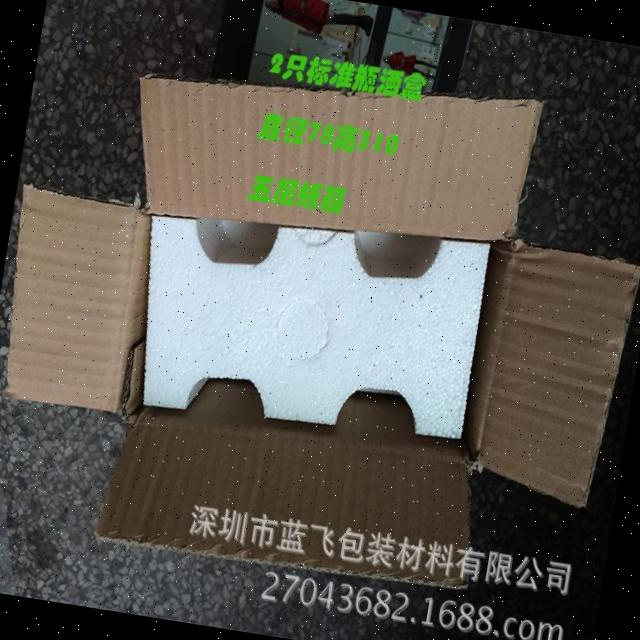styrofoam: (120, 190, 493, 456)
